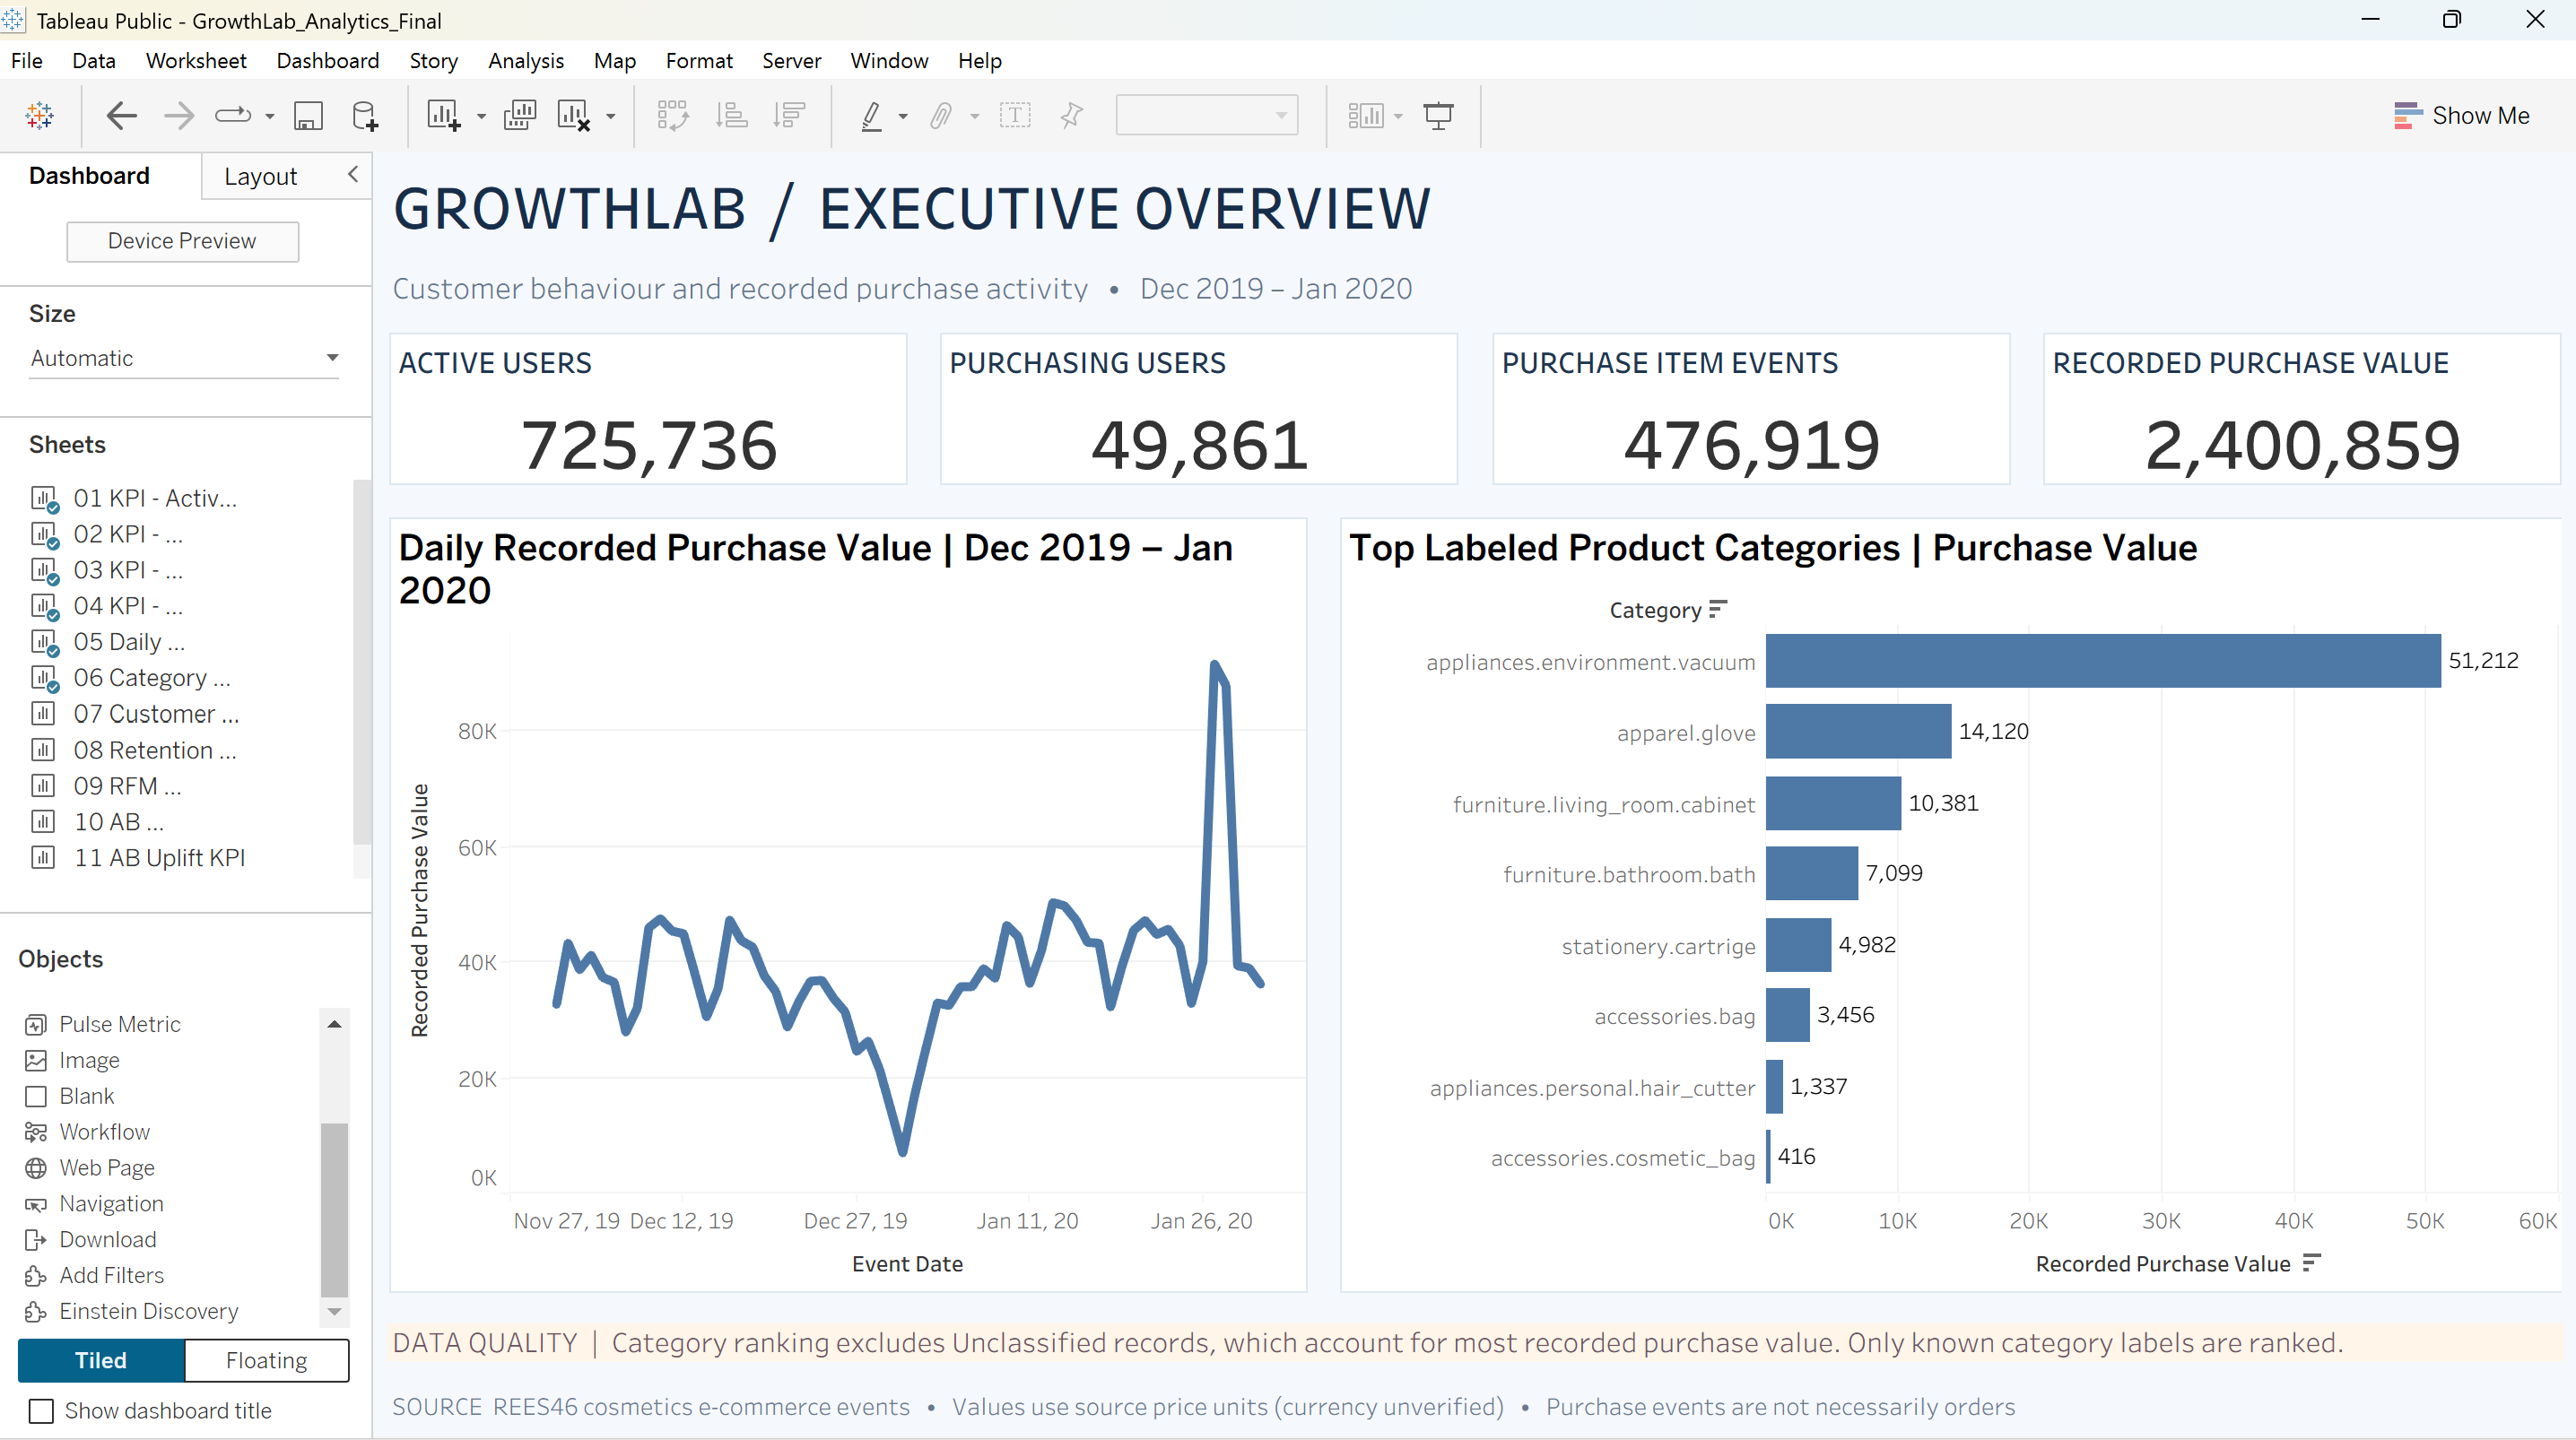

The dashboard page shown, as its layout file describes it:
{"tool":"tableau","page":{"name":"Executive Overview","canvas":[1000,1000],"units":"permille","ordinal":1},"visuals":[{"type":"text","box":[0,0,1000,83.8]},{"type":"text","box":[0,83.8,1000,44.7]},{"type":"worksheet","title":"01 KPI - Active Users","mark":"Text","box":[0,128.5,250,138.3]},{"type":"worksheet","title":"02 KPI - Purchasing Users","mark":"Text","box":[250,128.5,250,138.3]},{"type":"worksheet","title":"03 KPI - Purchase Events","mark":"Text","box":[500,128.5,250,138.3]},{"type":"worksheet","title":"04 KPI - Purchase Value","mark":"Text","box":[750,128.5,250,138.3]},{"type":"worksheet","title":"05 Daily Purchase Value","mark":"Line","rows":["recorded_purchase_value"],"cols":["event_date"],"box":[0,266.8,430.8,634]},{"type":"worksheet","title":"06 Category Purchase Value","mark":"Bar","rows":["category"],"cols":["recorded_purchase_value"],"box":[430.8,266.8,569.2,634]},{"type":"text","box":[0,900.8,1000,51.7]},{"type":"text","box":[0,952.5,1000,47.5]}]}

Visuals, with their boxes on the dashboard's canvas, which has no fixed pixel size, in thousandths of its width and height (x1, y1, x2, y2). These are canvas units, not pixel positions in the 2576x1440 screenshot, which may show the page scaled, cropped or inside an application window:
text: 0 0 1000 84
text: 0 84 1000 128
"01 KPI - Active Users" worksheet (Text marks): 0 128 250 267
"02 KPI - Purchasing Users" worksheet (Text marks): 250 128 500 267
"03 KPI - Purchase Events" worksheet (Text marks): 500 128 750 267
"04 KPI - Purchase Value" worksheet (Text marks): 750 128 1000 267
"05 Daily Purchase Value" worksheet (Line marks): 0 267 431 901
"06 Category Purchase Value" worksheet (Bar marks): 431 267 1000 901
text: 0 901 1000 952
text: 0 952 1000 1000
